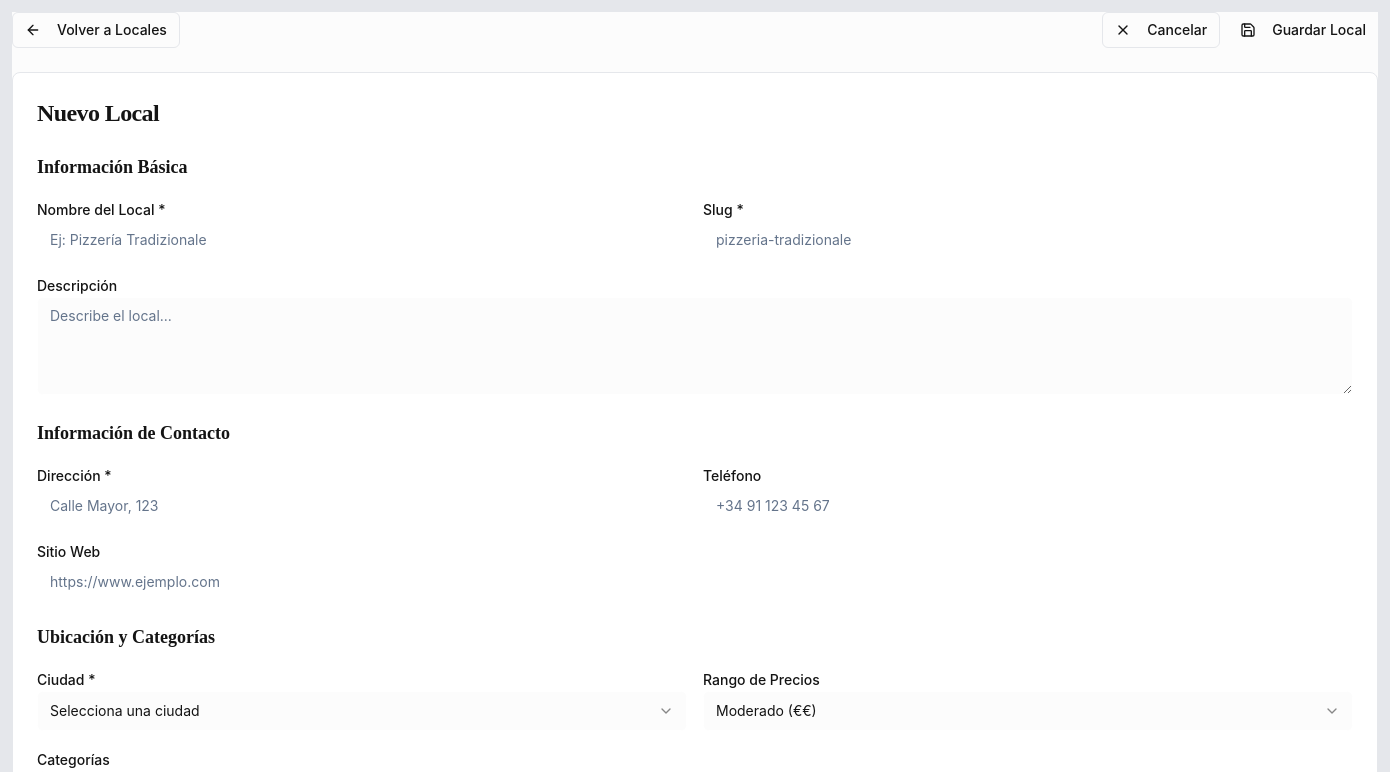
Venues Form - New Venue Page › User Feedback › should show loading state when saving
This screenshot has width=1390, height=772.
Note: Fill required fields
Type "Test Venue" into the field labelled "Nombre del Local *".
click(362, 239); type("Test Venue")  # box x1=37 y1=221 x2=687 y2=257
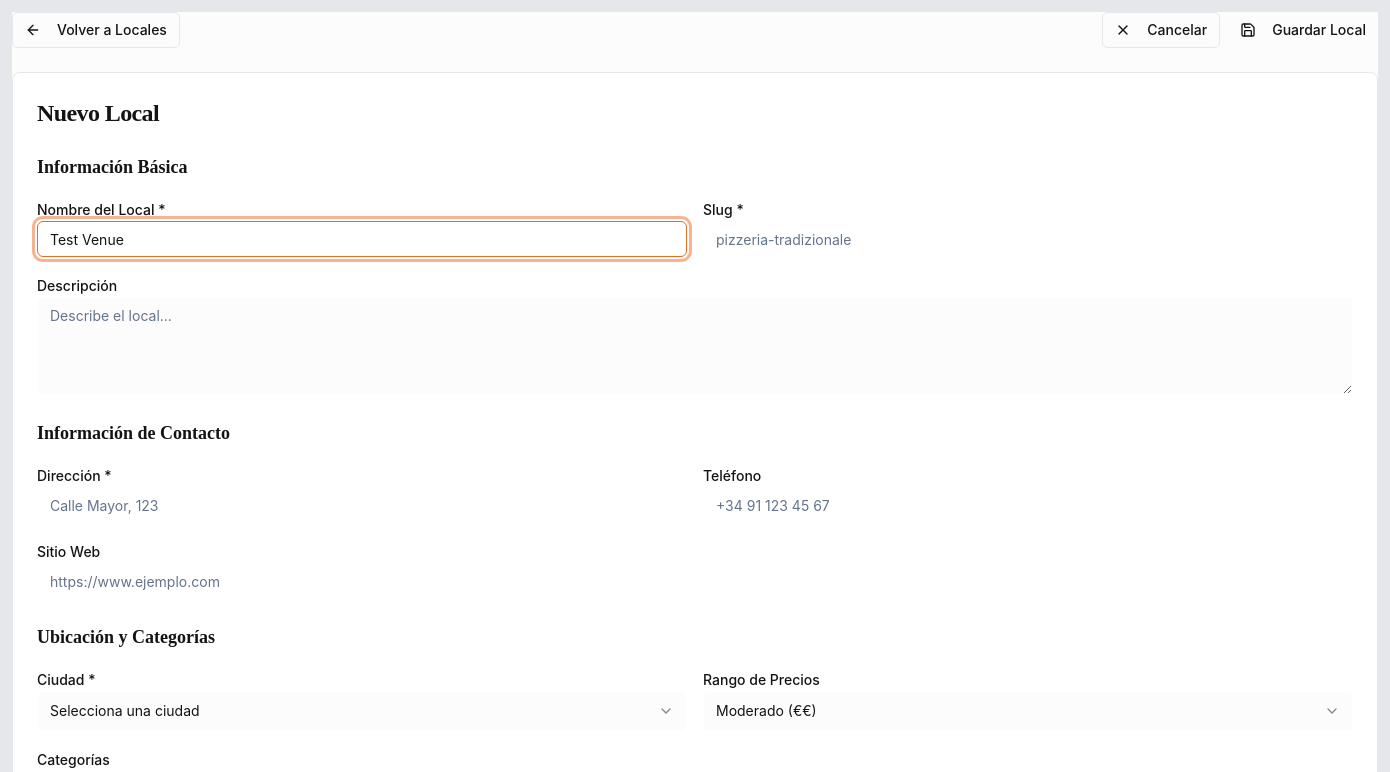
Type "Test Address 123" into the field labelled "Dirección *".
click(362, 505); type("Test Address 123")  # box x1=37 y1=487 x2=687 y2=523
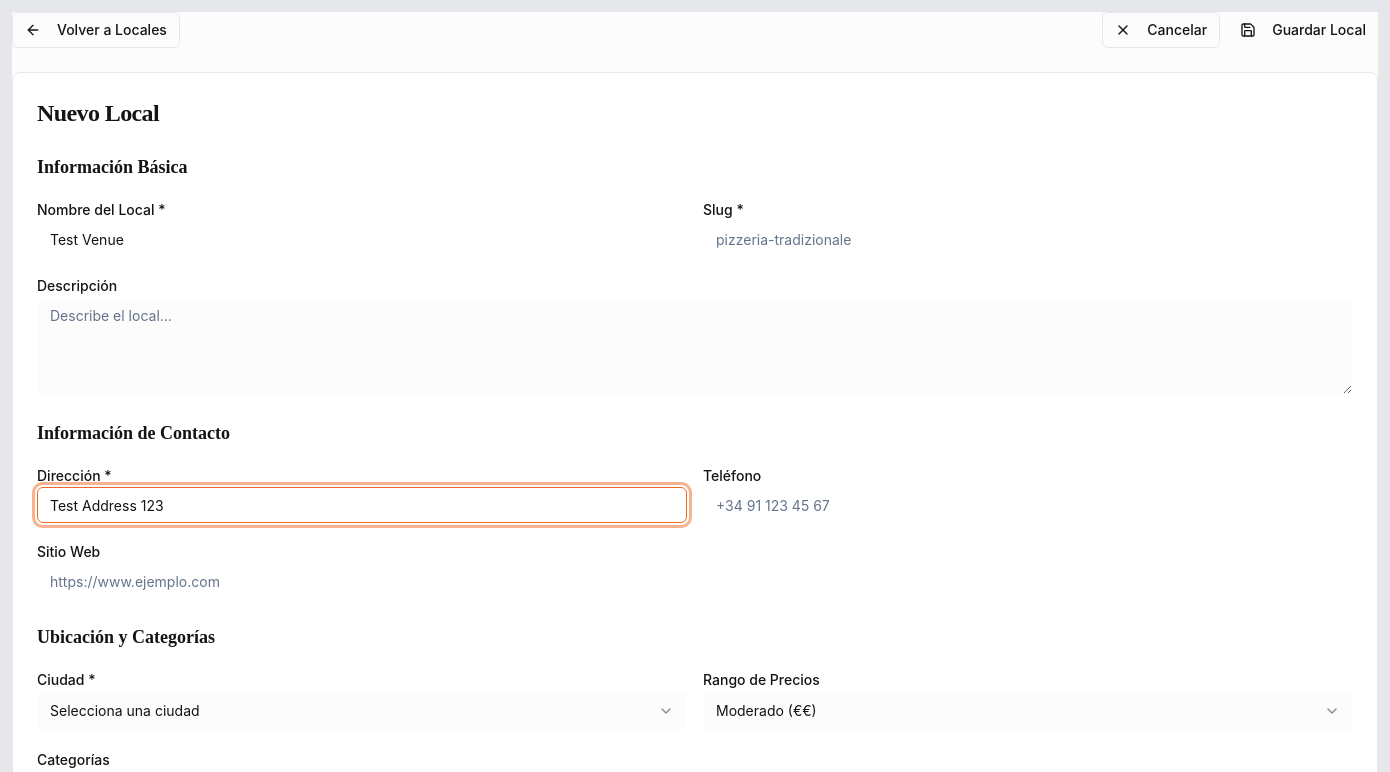
Click the button "Guardar Local".
click(1303, 30)  # box x1=1228 y1=12 x2=1378 y2=48
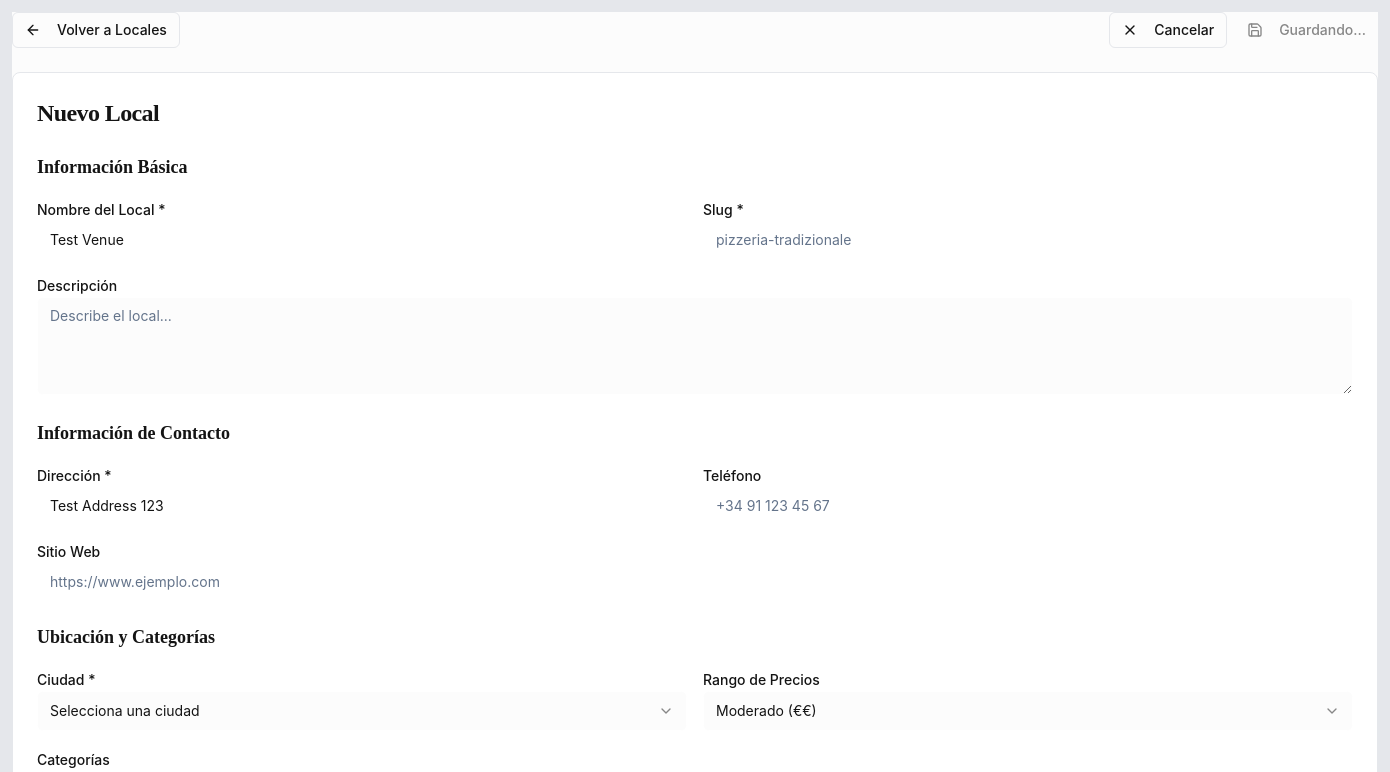
Now the button "Guardando..." is disabled, box x1=1235 y1=12 x2=1378 y2=48
